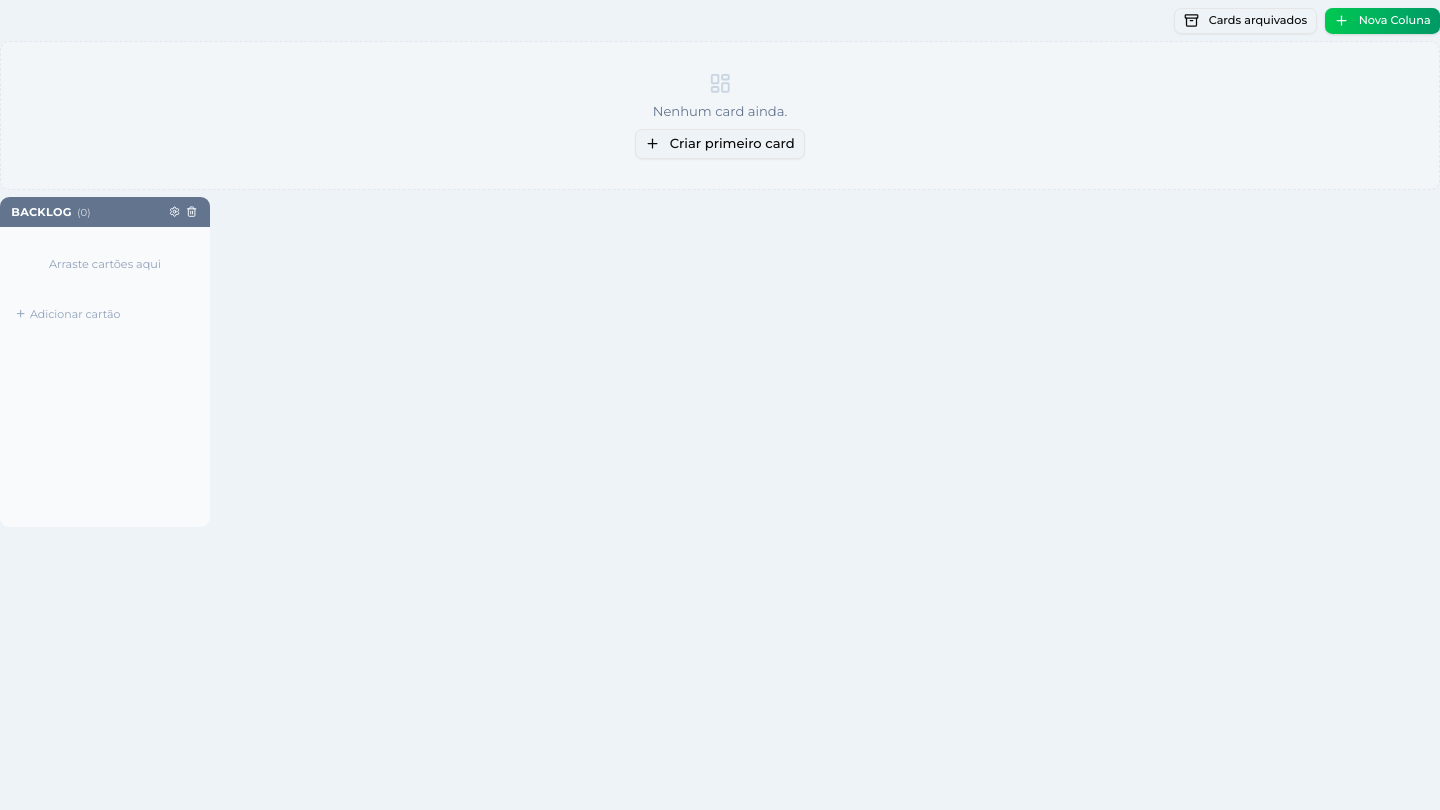
Scenario: PlannerBoard — criar card › 5. criação persiste — card aparece no quadro depois de salvar
Click the button "Criar primeiro card". click: [720, 144]
box: [635,128,805,158]
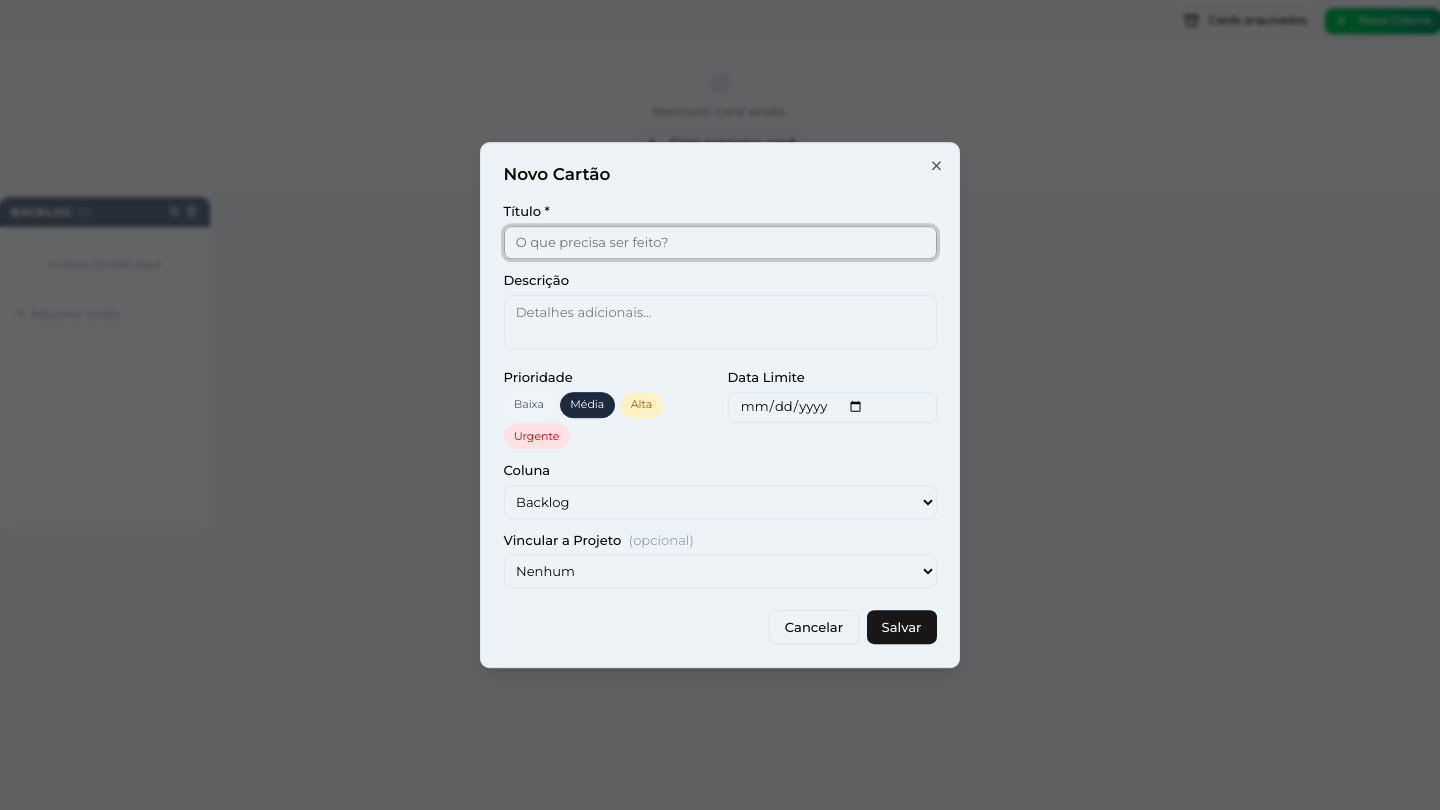
Type "Ligar pro fornecedor" into the field with placeholder "O que precisa ser feito?". click: [720, 243]
box: [504,226,936,260]
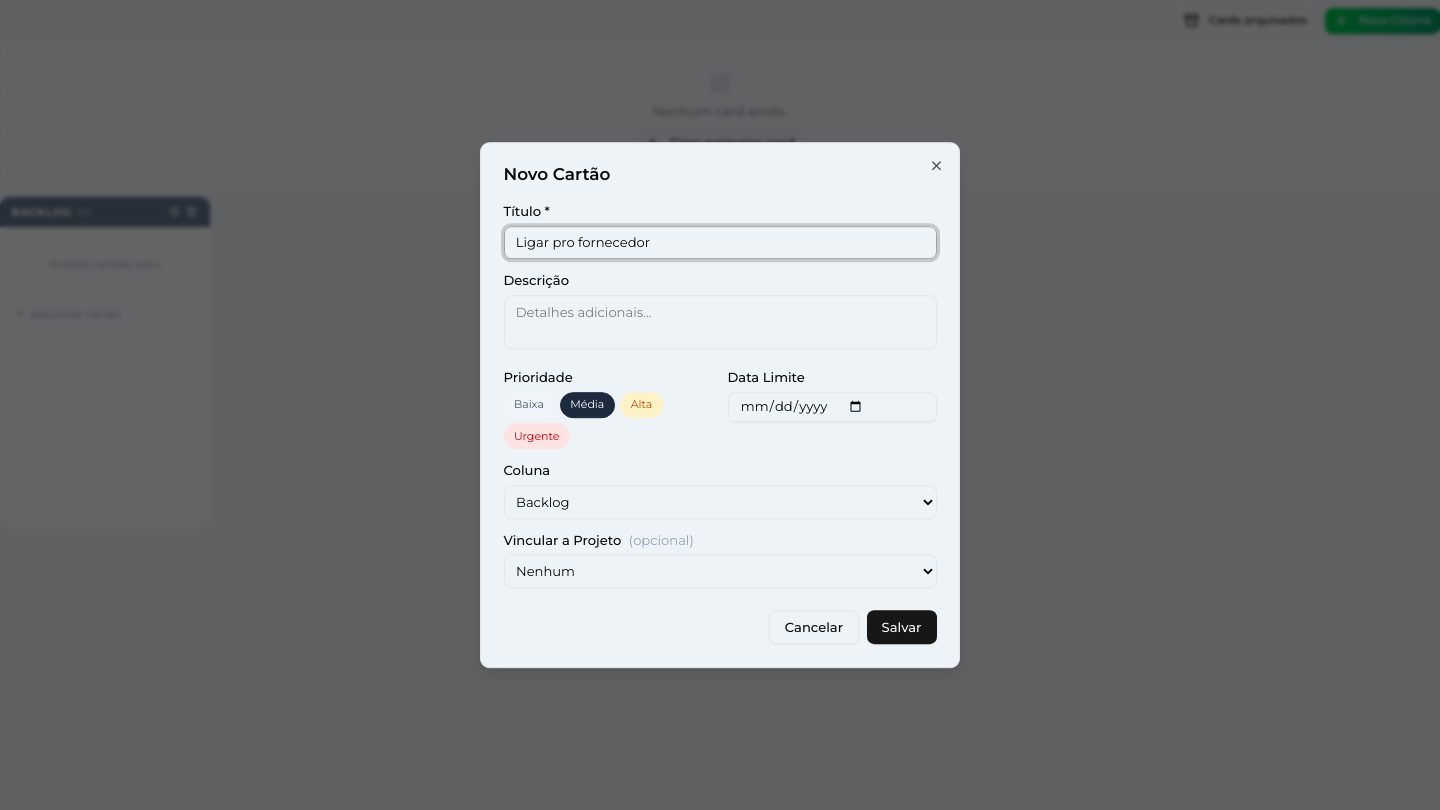
Click the button "Salvar". click: [902, 628]
box: [867,611,936,644]
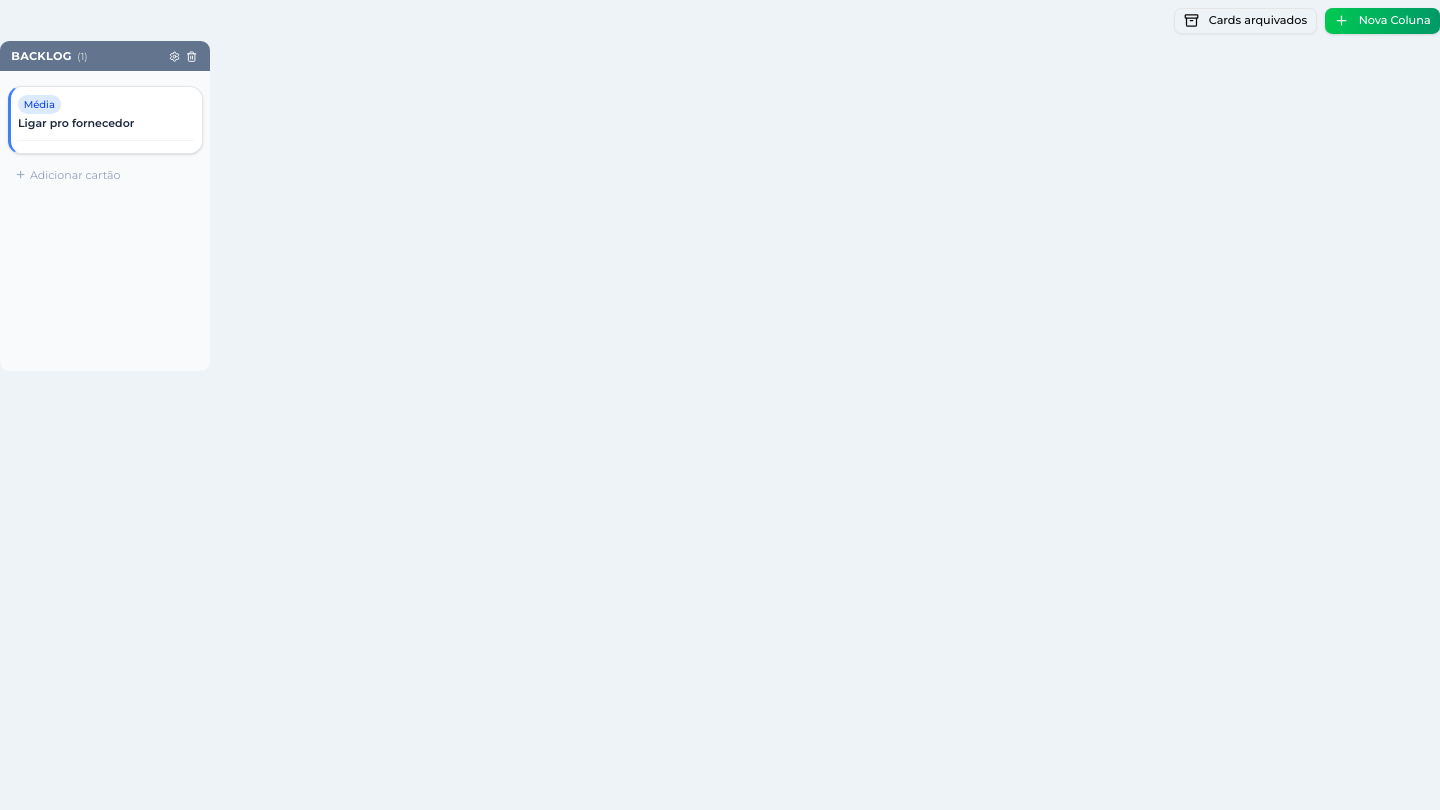
Check: the heading "Ligar pro fornecedor" is shown, box [18,116,134,130]
